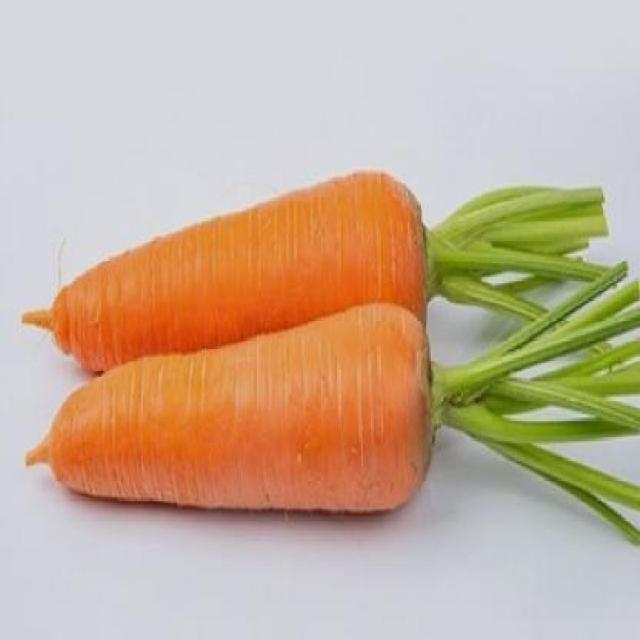carrot: (27, 298, 461, 535), (30, 176, 464, 379)
